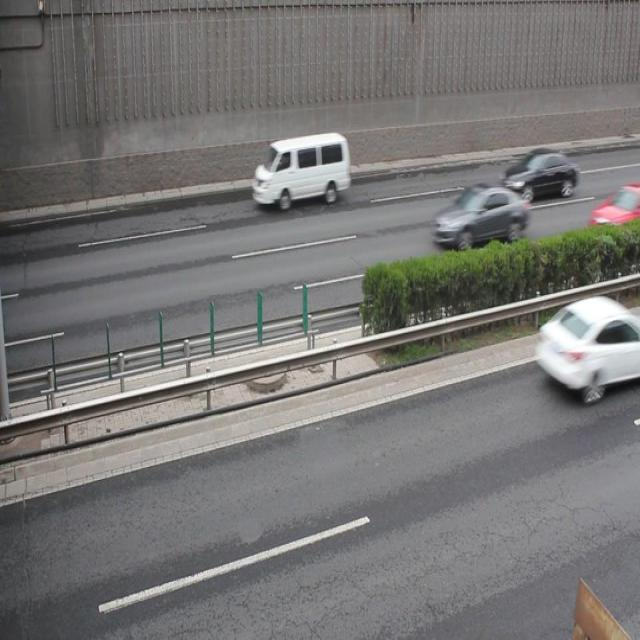car: (535, 299, 640, 396), (434, 182, 528, 249), (503, 150, 576, 202), (588, 184, 640, 233)
truck: (254, 134, 346, 207)
